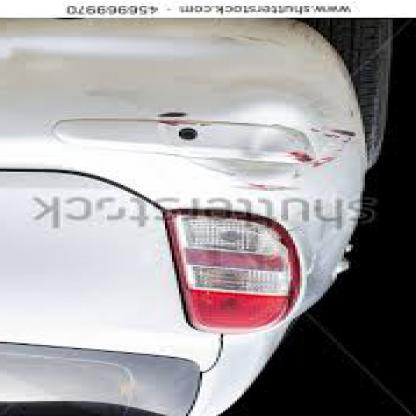dent: (219, 103, 312, 162)
